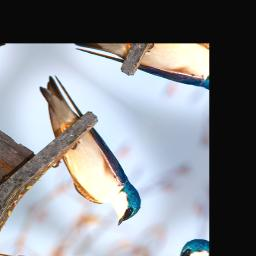Swallow: (0, 71, 177, 231)
